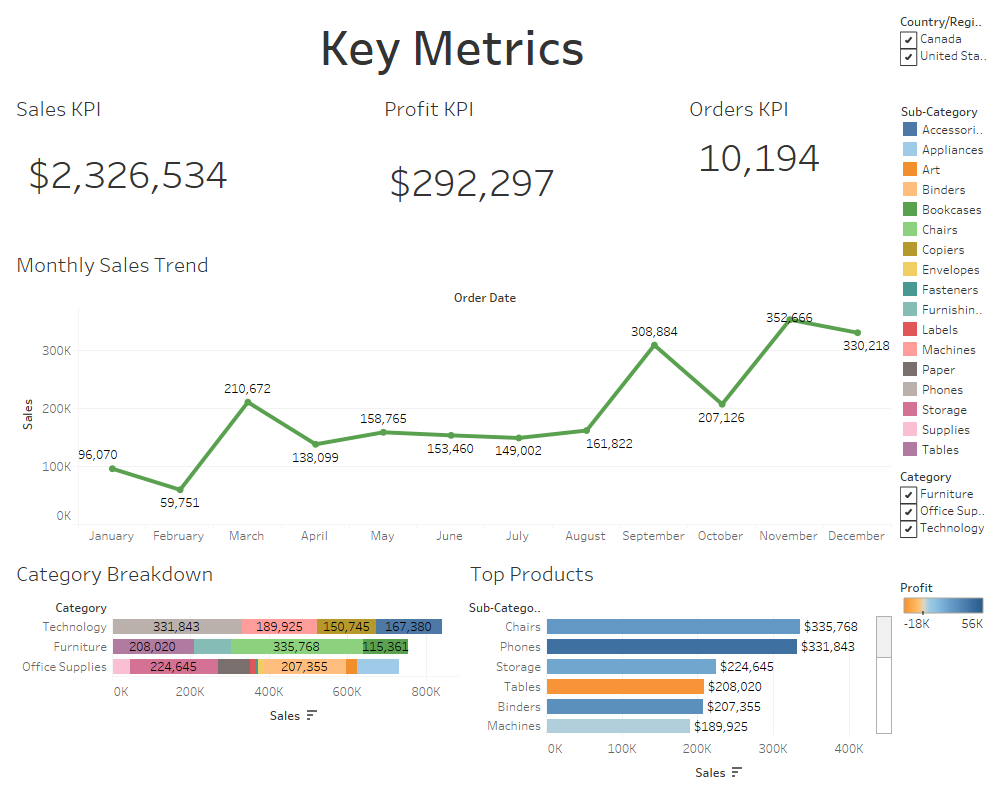

The page's visual inventory and layout, read from the dashboard file:
{"tool":"tableau","page":{"name":"Dashboard 1","canvas":[1000,800],"ordinal":0},"visuals":[{"type":"title","box":[8,8,888,76]},{"type":"filter","title":"Monthly Sales Trend","param":"[Sample - Superstore].[none:Country/Region:nk]","box":[896,8,96,89]},{"type":"worksheet","title":"Sales KPI","mark":"Text","box":[8,84,368,151]},{"type":"worksheet","title":"Profit KPI","mark":"Automatic","box":[376,84,305,151]},{"type":"worksheet","title":"Orders KPI","mark":"Automatic","box":[681,84,215,151]},{"type":"legend","title":"Category Breakdown","param":"[Sample - Superstore].[none:Sub-Category:nk]","box":[896,97,96,366]},{"type":"worksheet","title":"Monthly Sales Trend","mark":"Line","rows":["Sales"],"cols":["Order Date"],"box":[8,235,888,313.7]},{"type":"filter","title":"Category Breakdown","param":"[Sample - Superstore].[none:Category:nk]","box":[896,463,96,108]},{"type":"worksheet","title":"Category Breakdown","mark":"Automatic","rows":["Category"],"cols":["Sales"],"box":[8,548.7,454,243.3]},{"type":"worksheet","title":"Top Products","mark":"Automatic","rows":["Sub-Category"],"cols":["Sales"],"box":[462,548.7,434,243.3]},{"type":"legend","title":"Top Products","param":"[Sample - Superstore].[sum:Profit:qk]","box":[896,571,96,65]}]}

Visuals, with their boxes in screenshot pixels (x1, y1, x2, y2), scaled from the page's 1000x800 canvas onto the 1000x800 screenshot:
title: 8/8/896/84
"Monthly Sales Trend" filter: 896/8/992/97
"Sales KPI" worksheet (Text marks): 8/84/376/235
"Profit KPI" worksheet: 376/84/681/235
"Orders KPI" worksheet: 681/84/896/235
"Category Breakdown" legend: 896/97/992/463
"Monthly Sales Trend" worksheet (Line marks): 8/235/896/549
"Category Breakdown" filter: 896/463/992/571
"Category Breakdown" worksheet: 8/549/462/792
"Top Products" worksheet: 462/549/896/792
"Top Products" legend: 896/571/992/636
